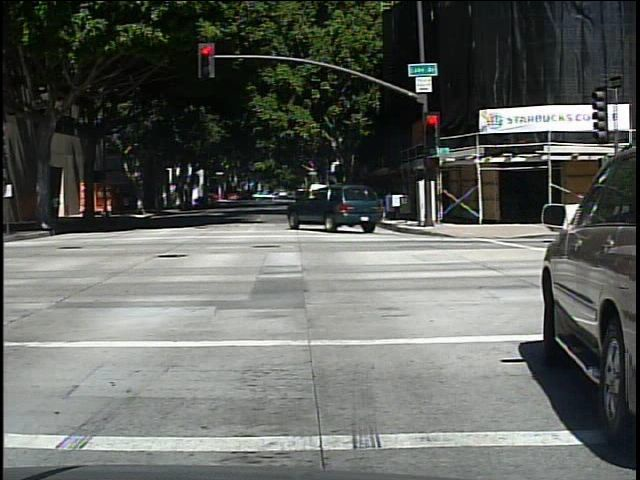person: (52, 190, 62, 224)
